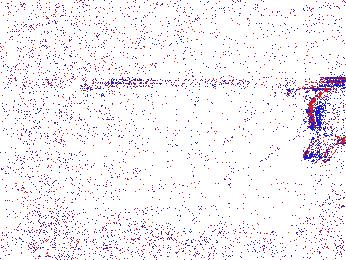flame jellyfish: (302, 84, 346, 165), (27, 212, 88, 260), (170, 199, 226, 246)
